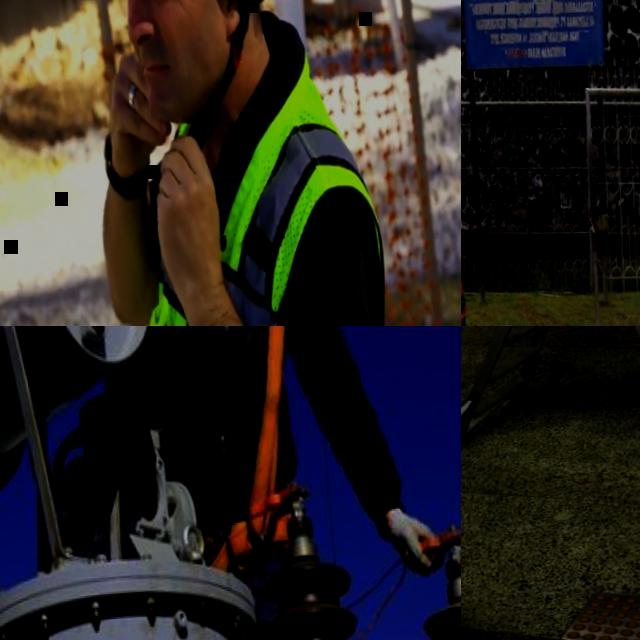no_mask: (124, 0, 226, 129)
no_vest: (143, 326, 291, 516)
person: (81, 326, 449, 640), (65, 0, 397, 326), (461, 39, 514, 326)
vest: (127, 49, 397, 326)
